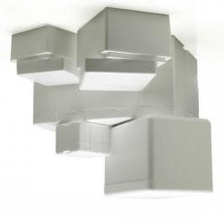foam_box: (27, 31, 203, 147), (100, 112, 218, 205), (71, 3, 176, 68), (77, 54, 159, 96), (7, 22, 77, 69), (52, 117, 114, 162), (13, 54, 83, 88)
